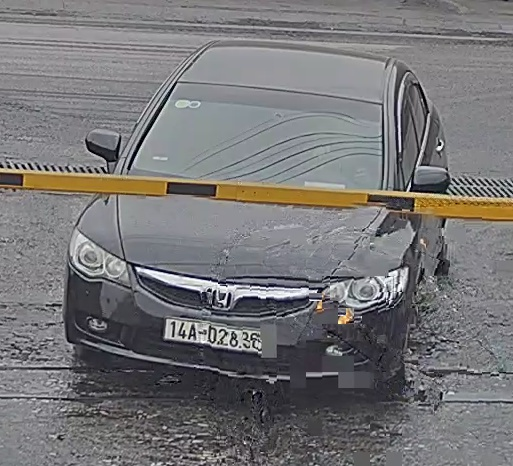vehicle plate: (159, 312, 267, 356)
